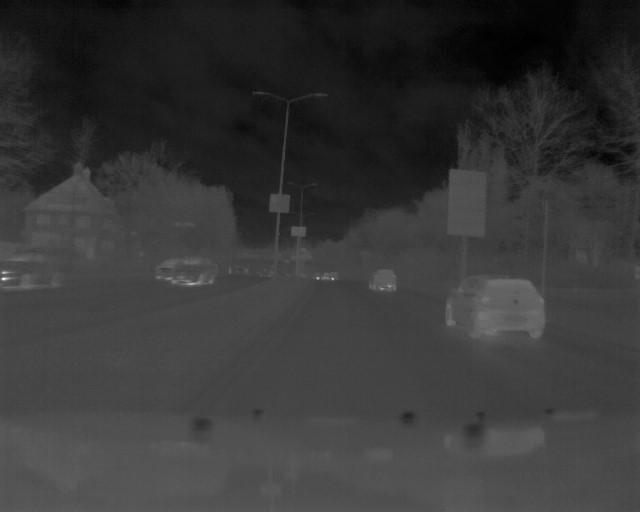car: (442, 273, 550, 344), (1, 244, 65, 297), (172, 255, 217, 287), (369, 267, 401, 294)
